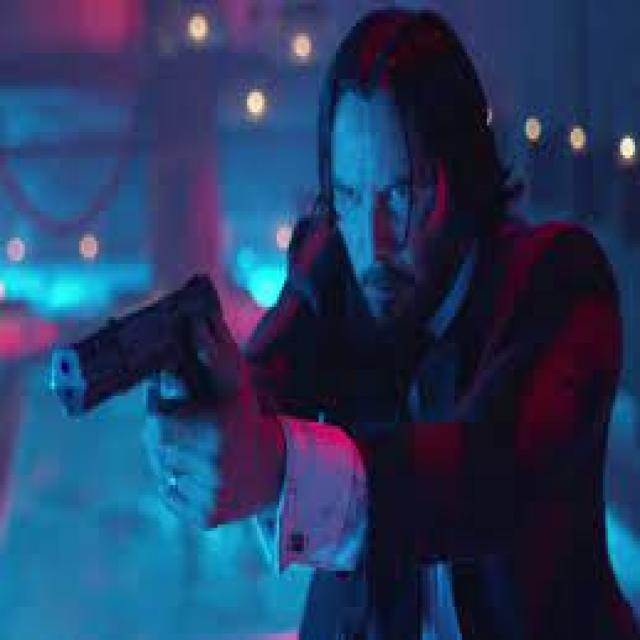weapons: (48, 259, 242, 450)
